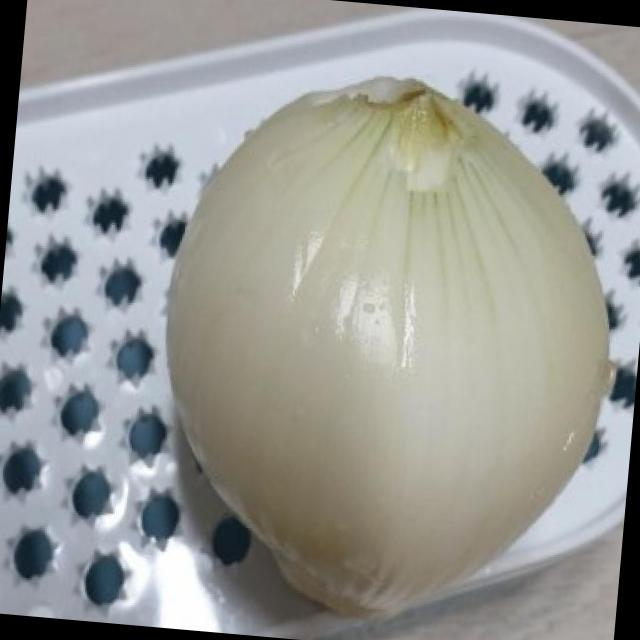Onion: (133, 41, 634, 638)
